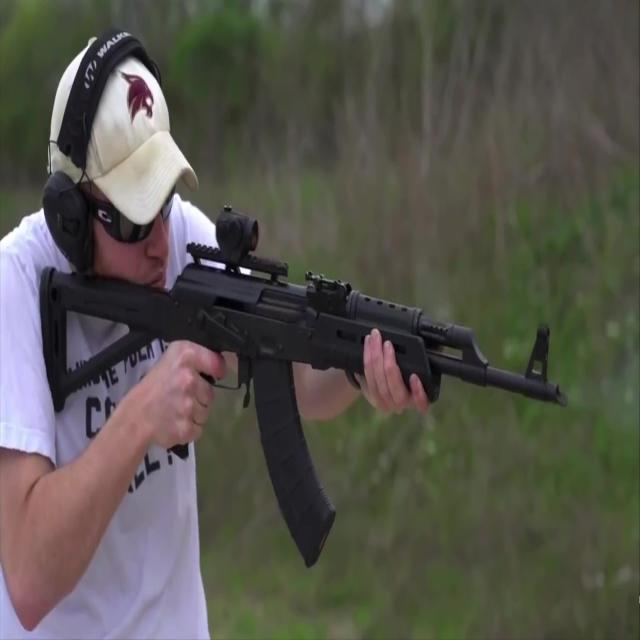Weapon: (28, 200, 570, 574)
